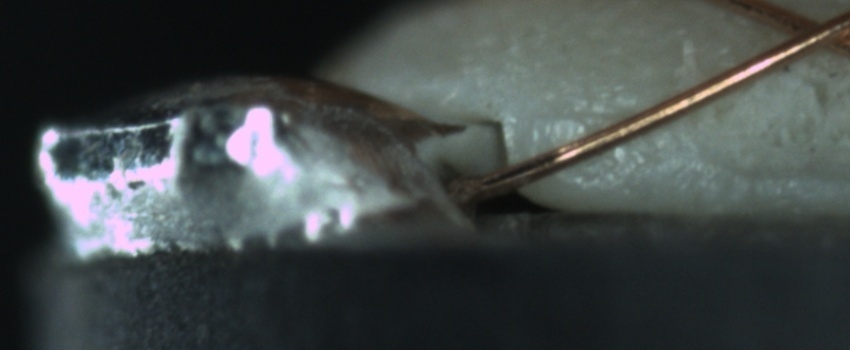CL: (760, 1, 848, 64)
DL: (533, 85, 661, 143)
